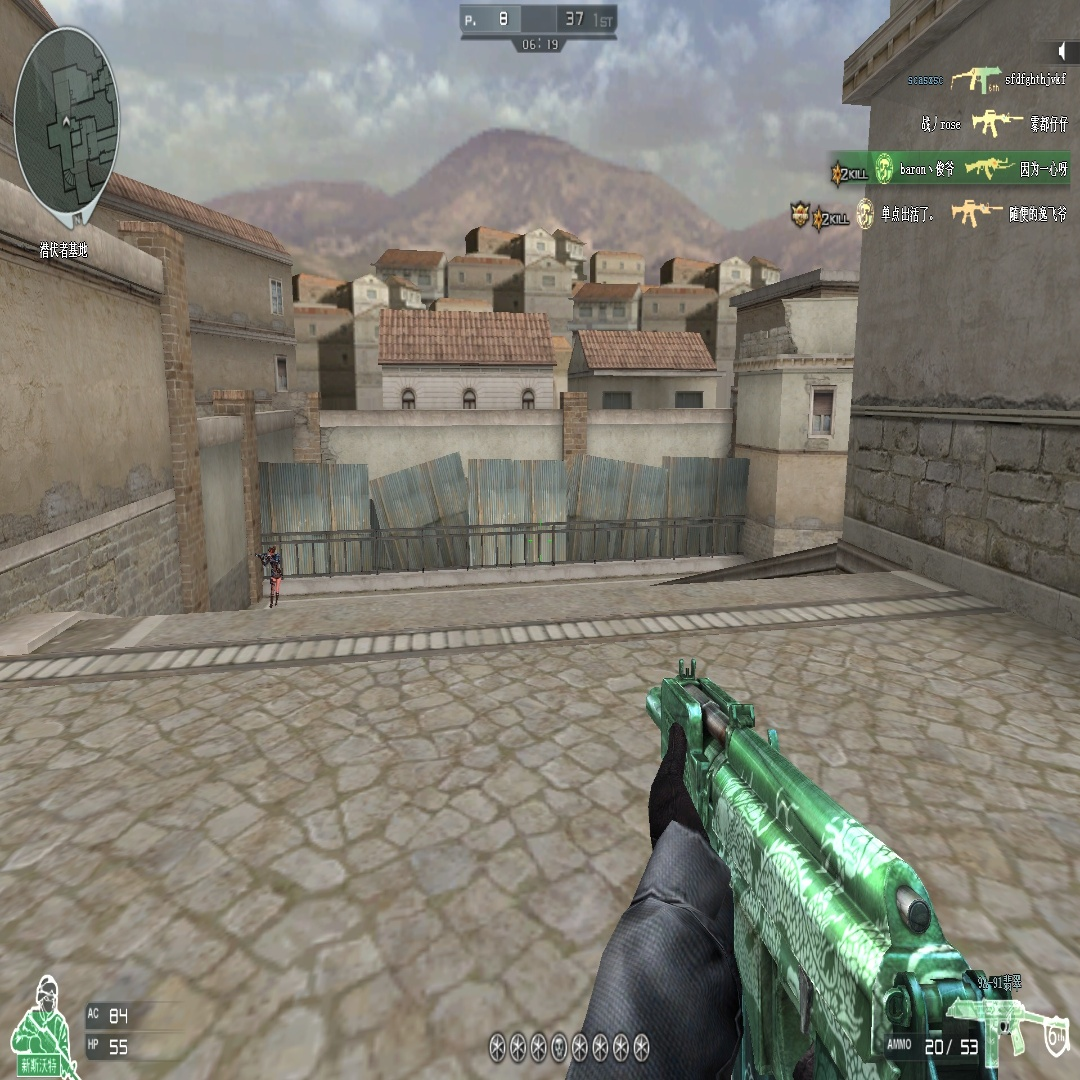head: (267, 545, 276, 557)
p: (265, 542, 282, 610)
